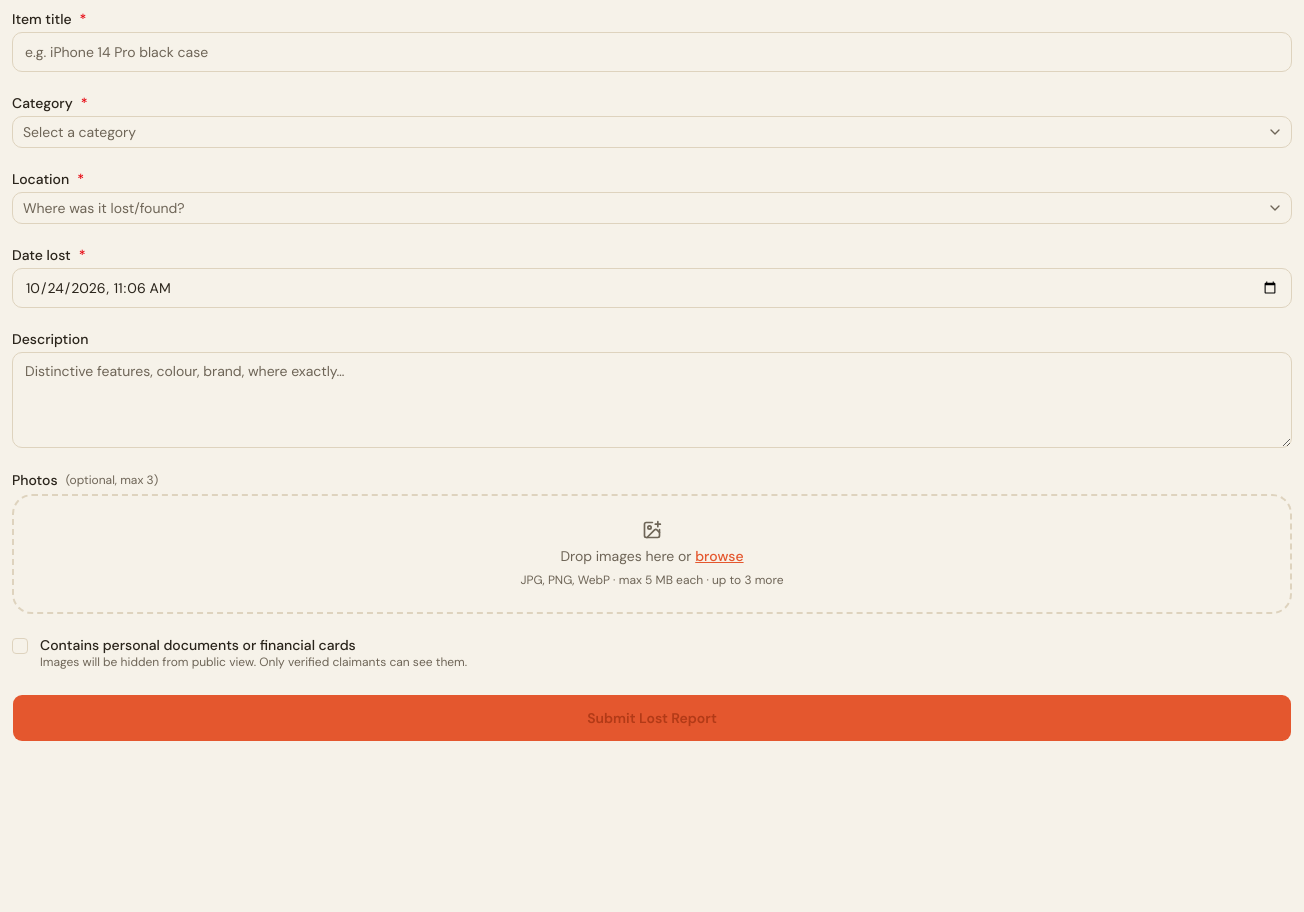
Test case: ReportForm validation errors › blocks submission with 2-char title
In the field labelled "Item title *": (652, 52) [12,32,1292,72], type "ab"
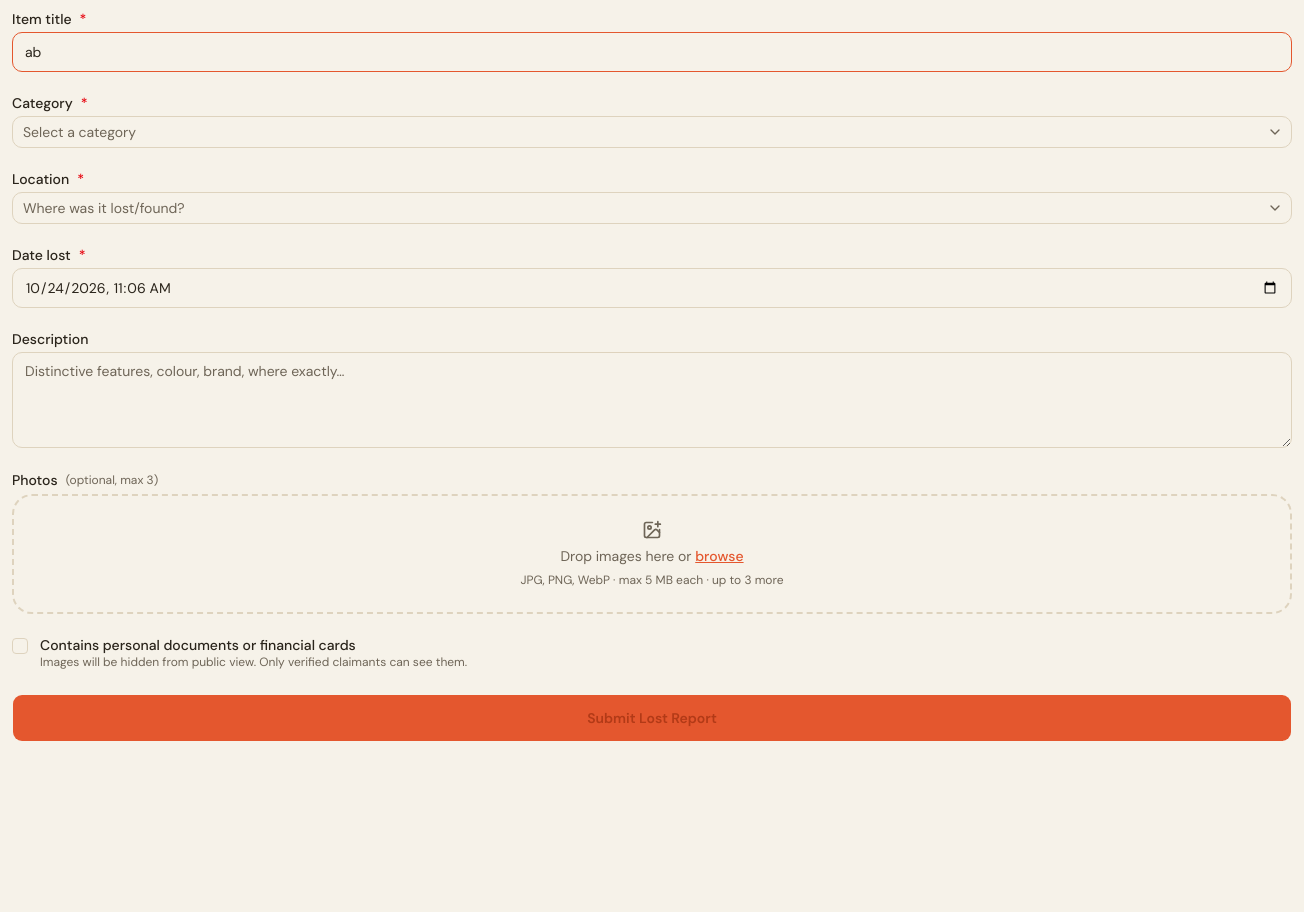
Click the button "Submit Lost Report": (652, 718) [12,694,1292,742]
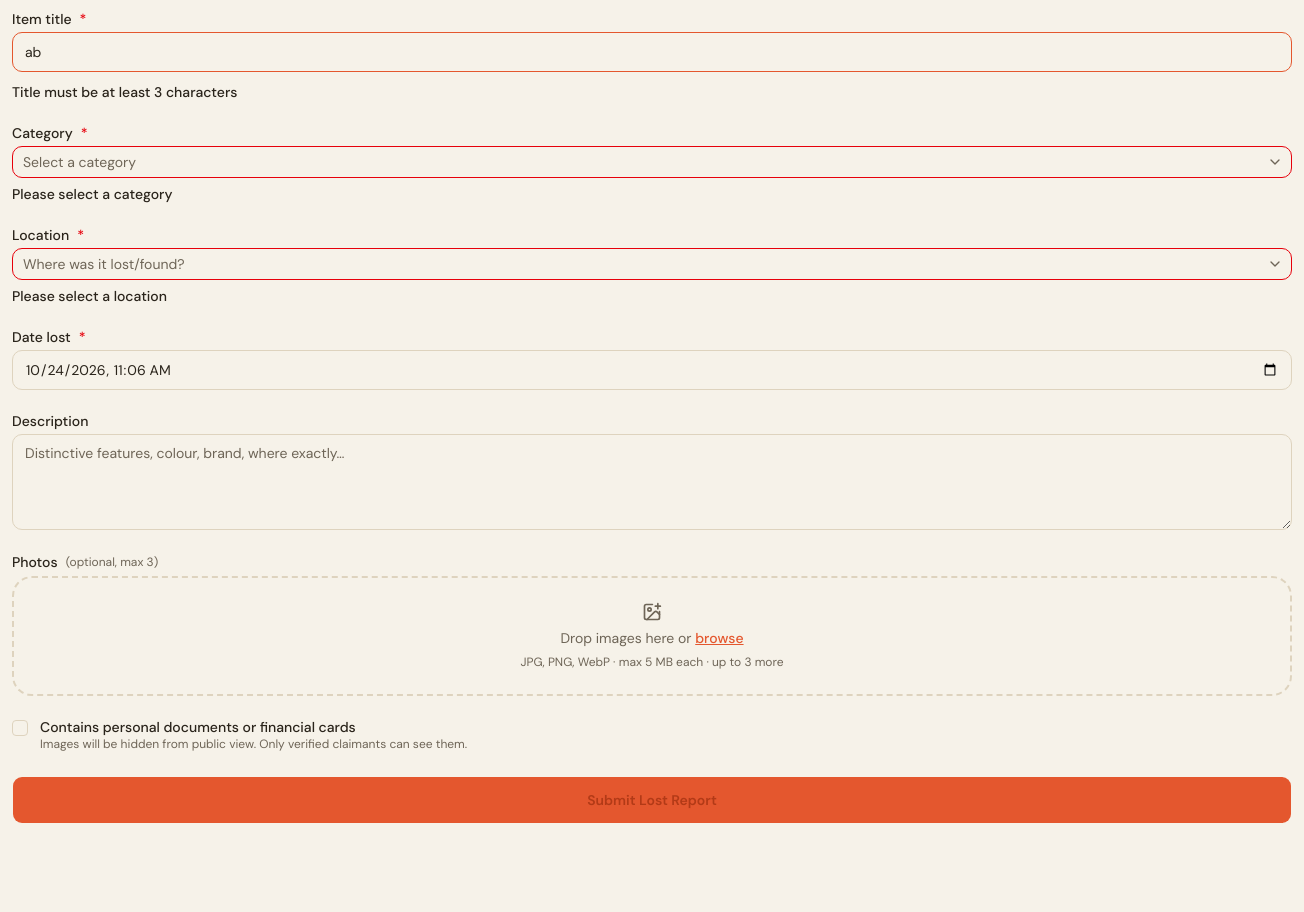
Now the text "Title must be at least 3 characters" is shown, box [12,83,237,101]
